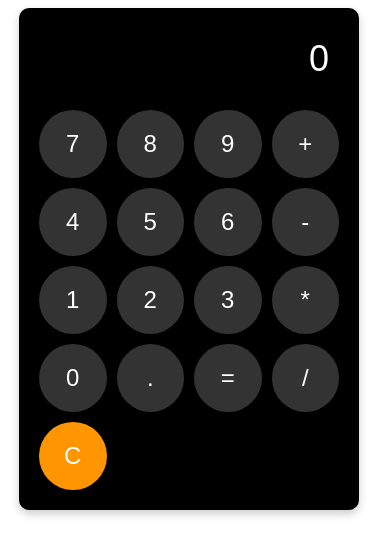
Test: App › should calculate correctly › should perform multiplication correctly
Step 1. Click the button "4" → (73, 222), box [39,188,106,256]
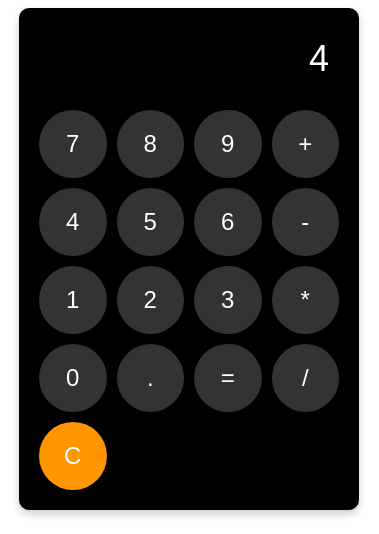
Step 2. Click the button "*" → (305, 300), box [272,266,339,334]
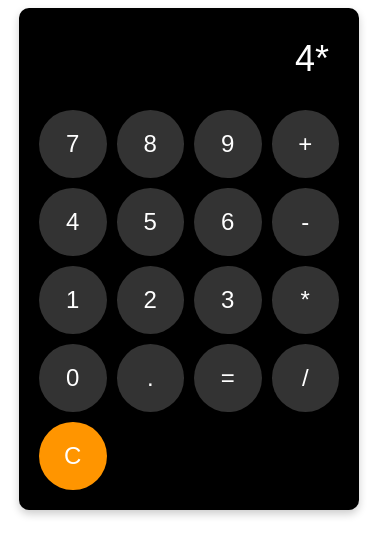
Step 3. Click the button "5" → (150, 222), box [116,188,184,256]
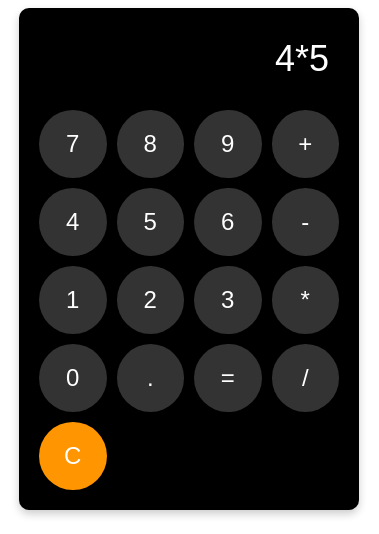
Step 4. Click the button "=" → (228, 378), box [194,344,262,412]
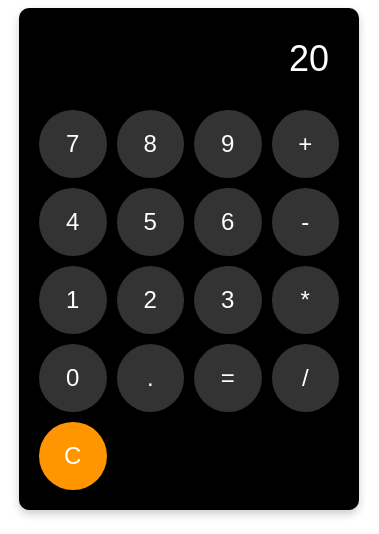
Expected: the text with test id "display" reads "20", [289,38,329,79]
